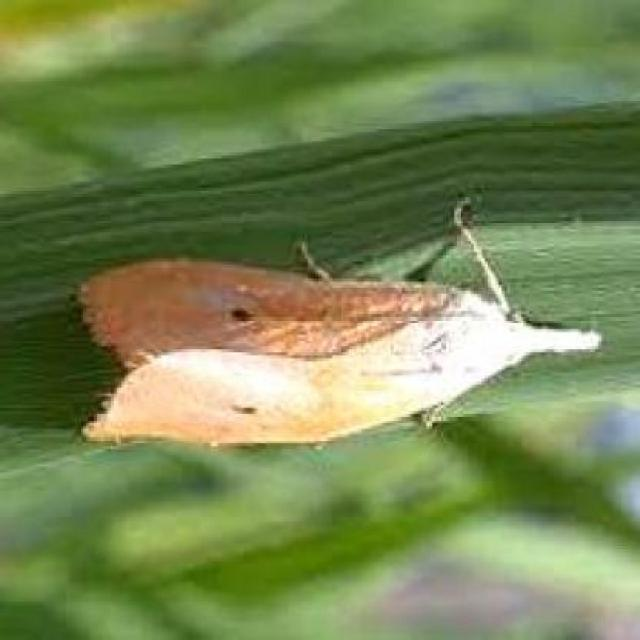stem-borer: (79, 195, 603, 448)
